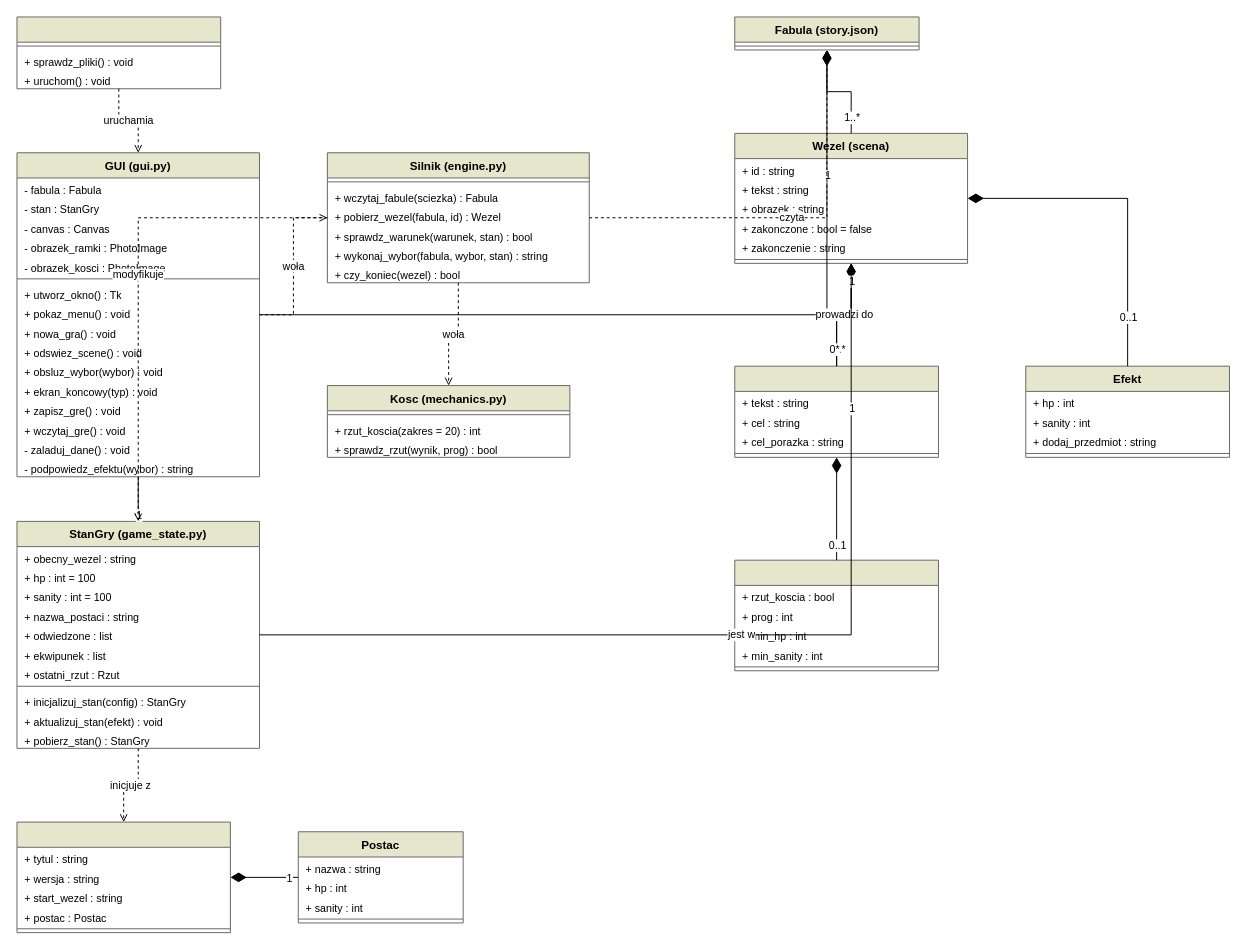
The diagram is 1246 pixels wide and 950 high, and some of its shapes have lost their labels. Here are the shapes that lost their labels. From the top down, the box of each, then its label:
(16, 16, 221, 89): Main (main.py)
(734, 365, 938, 457): Wybor
(734, 559, 938, 671): Warunek
(16, 821, 230, 933): Konfiguracja (config.json)
